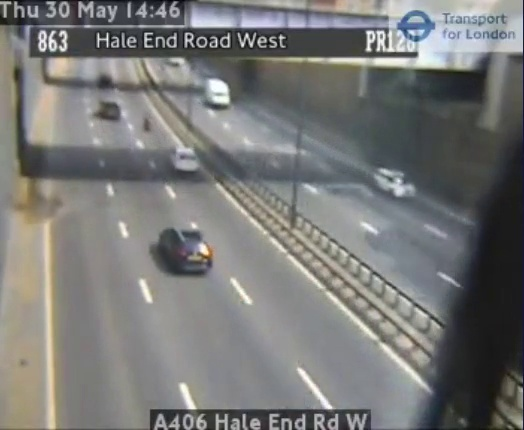car: (158, 228, 212, 273), (172, 147, 199, 172)
